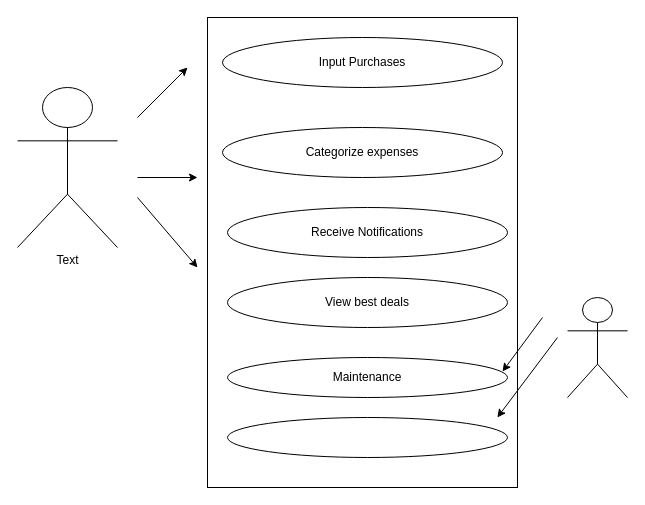
This 645x505 diagram has some shape labels left out. Here are the shapes that lost their labels. From the top down, the centre of each, then its label:
At point (67, 167): "User".
At point (597, 347): "Admin".
At point (367, 437): "Storage and Authentication".
